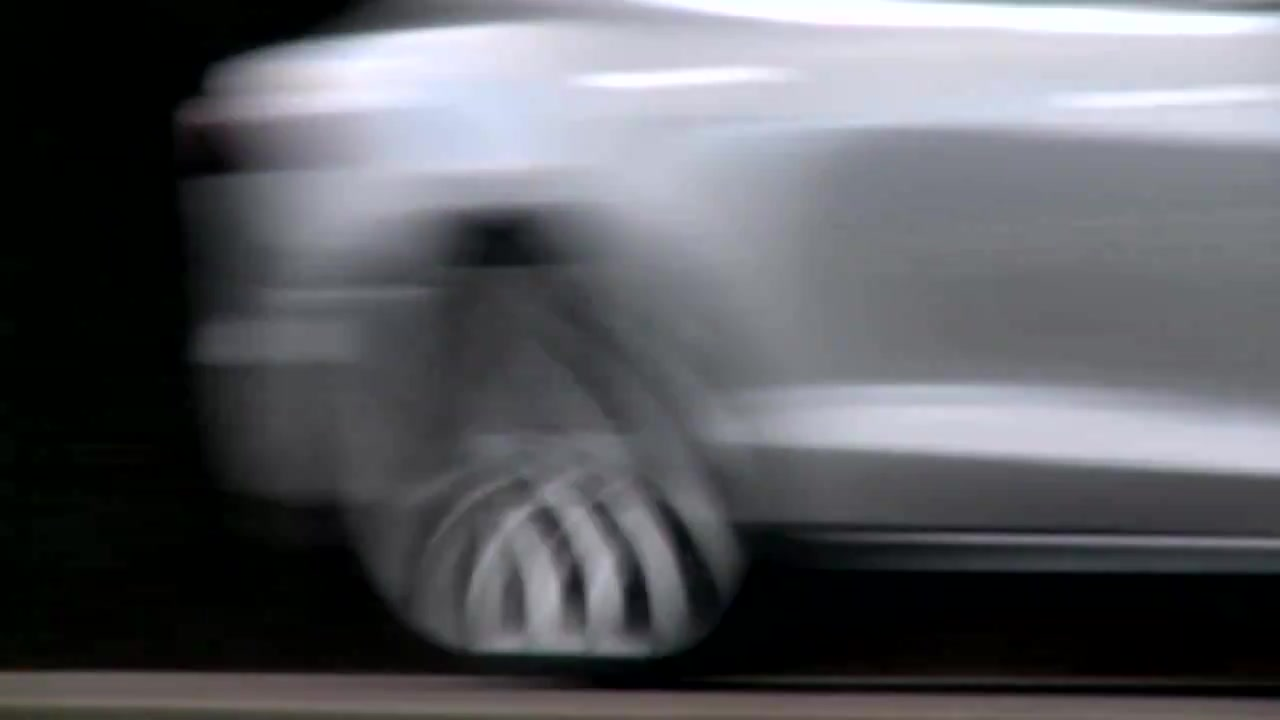car: (159, 7, 1280, 698)
